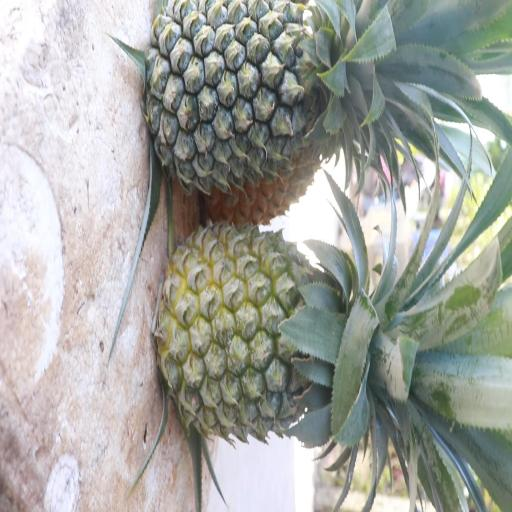------------------------------: (156, 219, 440, 448)
